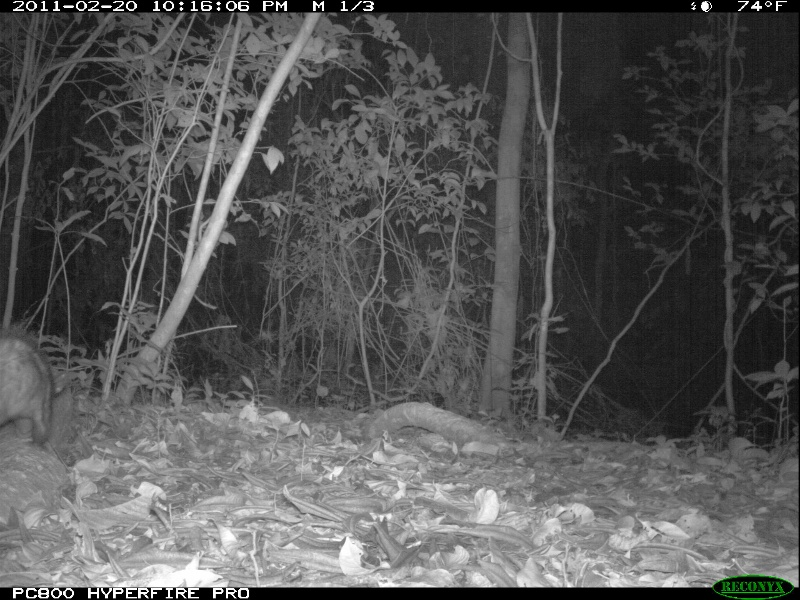opossum: (1, 335, 64, 445)
